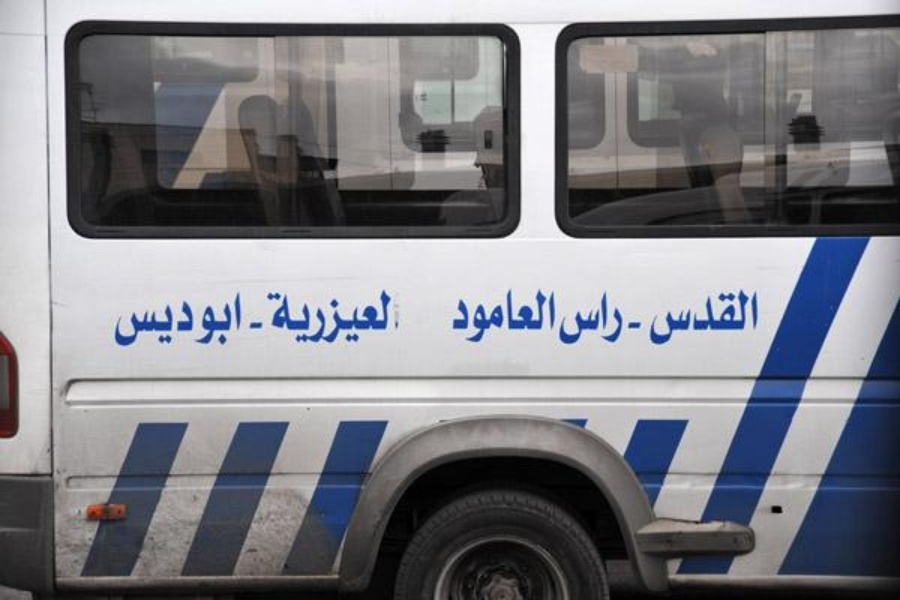text: (657, 290, 672, 349), (673, 290, 688, 349), (689, 290, 704, 349), (705, 290, 720, 349), (721, 290, 736, 349), (737, 290, 752, 349), (273, 289, 288, 346), (289, 289, 304, 346), (305, 289, 320, 346), (321, 289, 336, 346), (337, 289, 352, 346), (353, 289, 368, 346), (369, 289, 384, 346), (385, 289, 400, 346), (561, 290, 576, 347), (577, 290, 592, 347), (593, 290, 608, 347), (609, 290, 624, 347), (129, 292, 144, 349), (145, 292, 160, 349), (161, 292, 176, 349), (177, 292, 192, 349), (193, 292, 208, 349), (209, 292, 224, 349), (225, 292, 240, 349), (465, 287, 480, 344), (481, 287, 496, 344), (497, 287, 512, 344), (513, 287, 528, 344), (529, 287, 544, 344), (545, 287, 557, 344), (753, 290, 761, 349), (457, 287, 464, 344), (650, 290, 656, 349), (122, 292, 128, 349), (401, 289, 406, 346), (268, 289, 272, 346), (628, 319, 640, 334), (557, 290, 560, 347), (248, 322, 256, 332), (257, 322, 265, 332), (625, 290, 626, 347), (241, 292, 242, 349), (641, 319, 644, 334)
